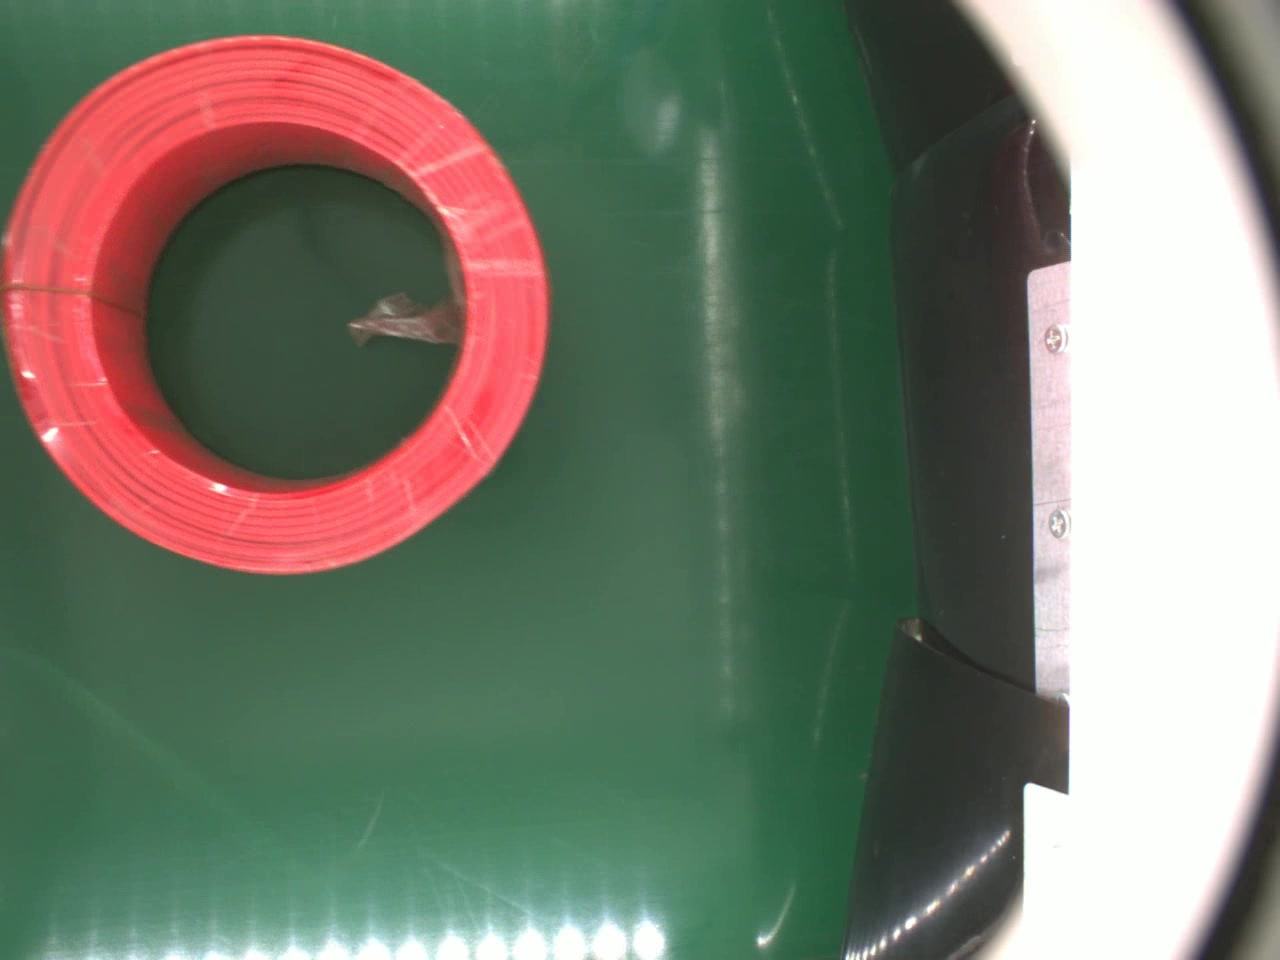red: (0, 31, 549, 582)
